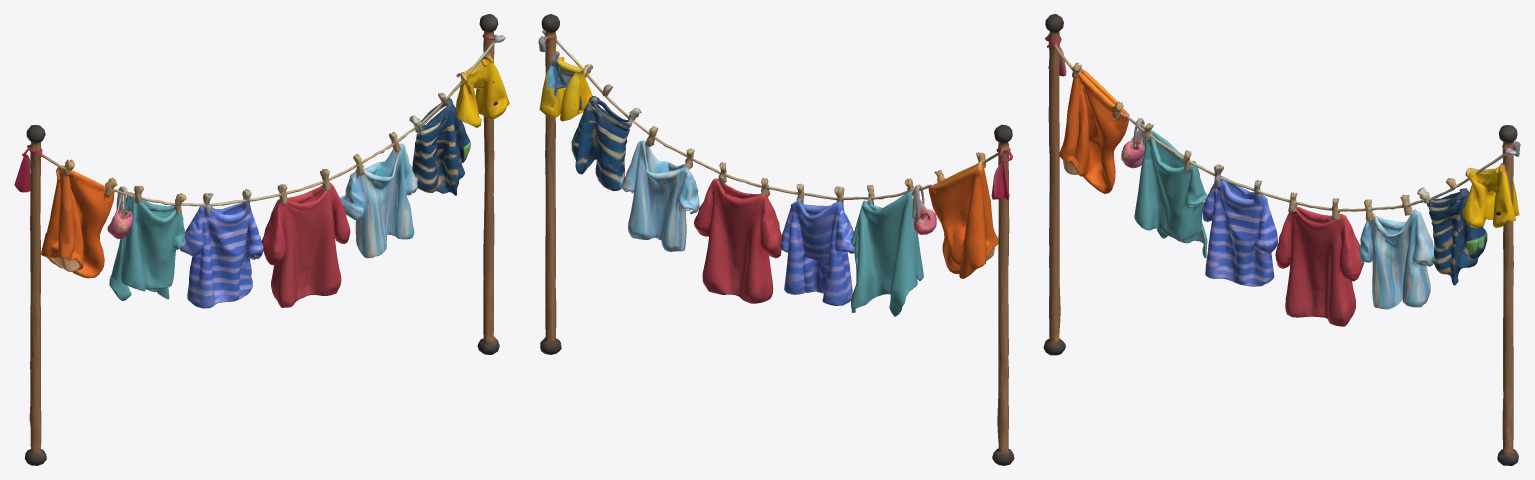
Rendered from quintal_varal.glb.
3 views of the same model, side by side, from view 1: azimuth 30°, elevation 25°; view 2: azimuth 150°, elevation 25°; view 3: azimuth 330°, elevation 25° (orthographic).
Parts seen in each view (by area): view 1: tripo_node_0f71ab34-2667-4973-a747-717744613ede; view 2: tripo_node_0f71ab34-2667-4973-a747-717744613ede; view 3: tripo_node_0f71ab34-2667-4973-a747-717744613ede.
Boxes of the visible parts, x1,y1,x2,y2 form: tripo_node_0f71ab34-2667-4973-a747-717744613ede: (14,14,509,465); tripo_node_0f71ab34-2667-4973-a747-717744613ede: (538,14,1014,465); tripo_node_0f71ab34-2667-4973-a747-717744613ede: (1043,14,1520,465).
Size of the model in its own units: 0.9798 by 0.6606 by 0.0982.
1 material, 1 textured.
